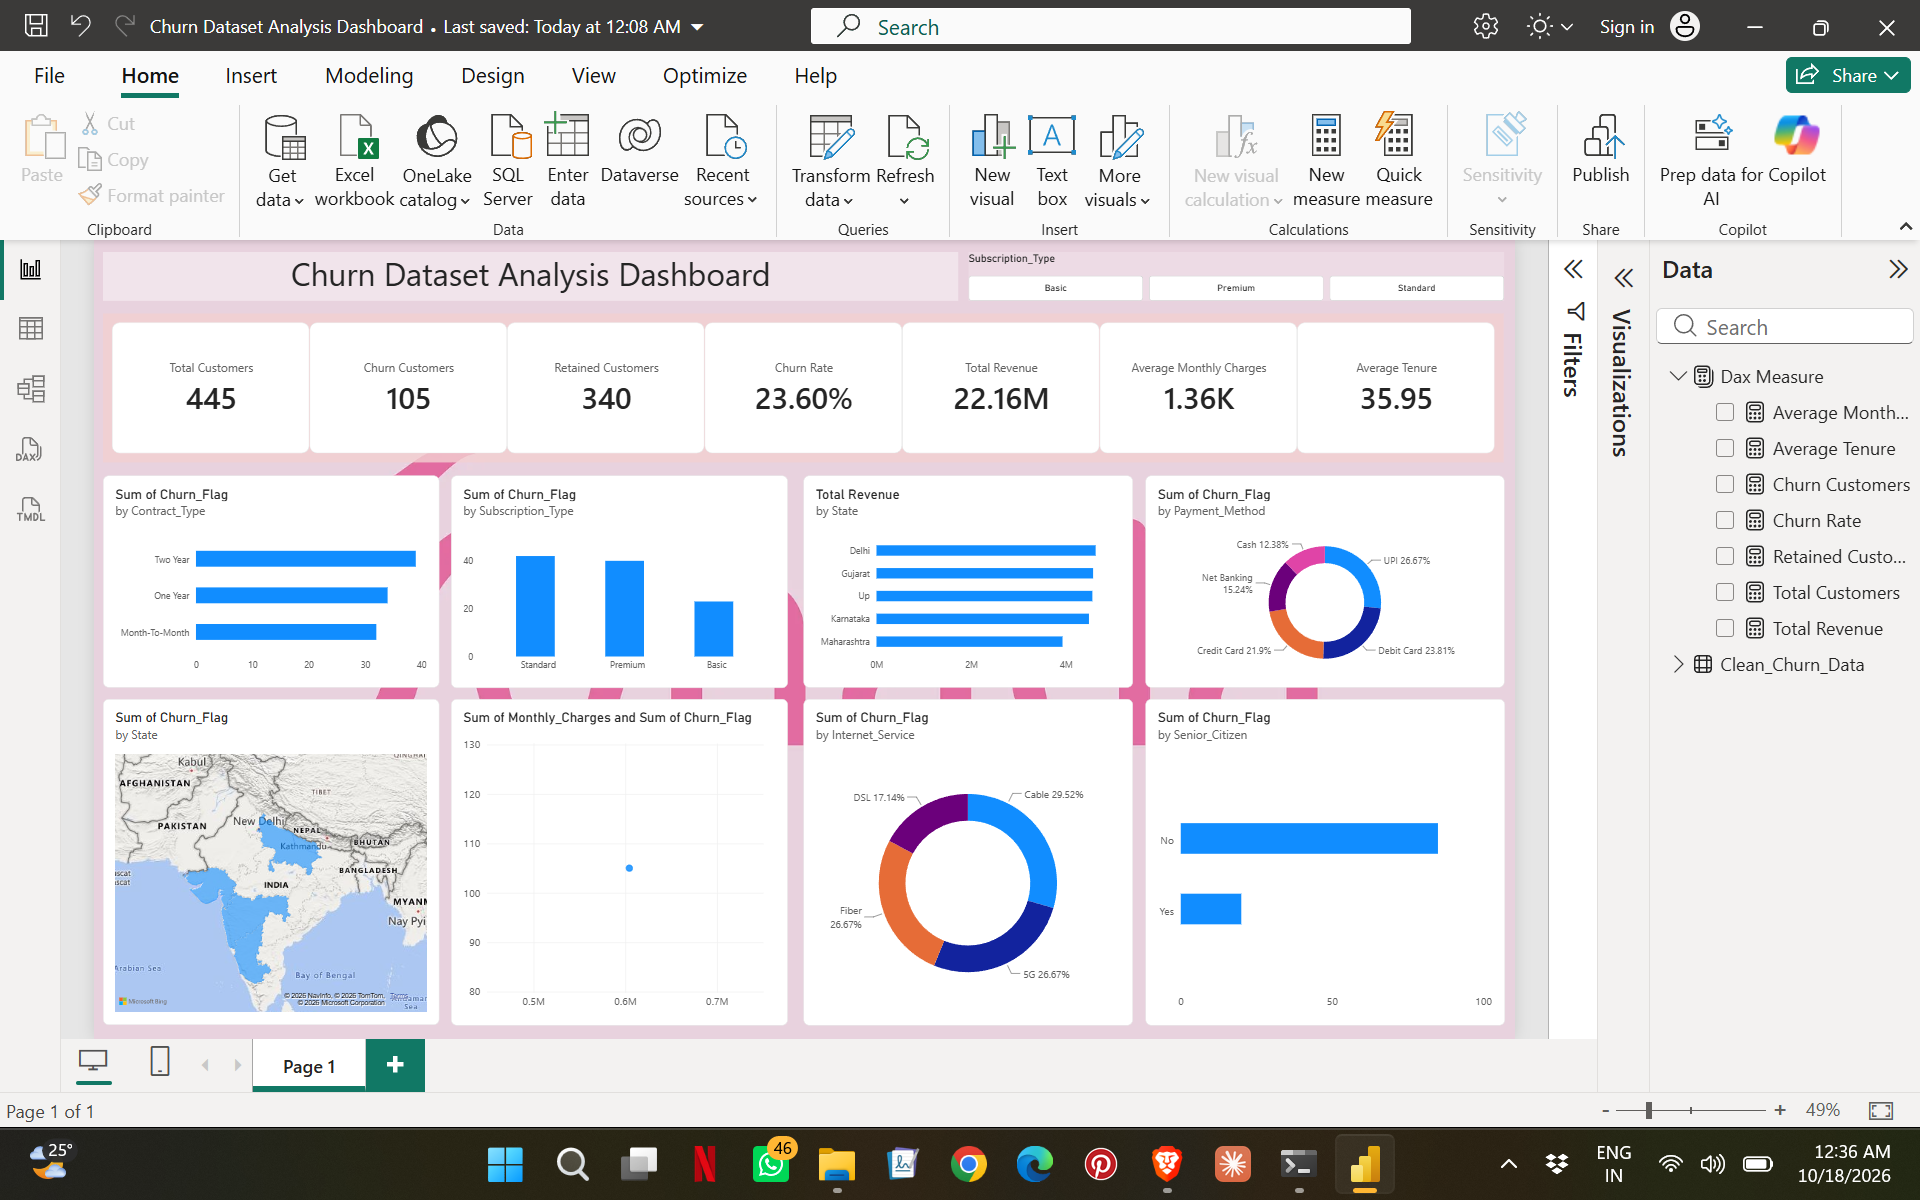

The dashboard page shown, as its layout file describes it:
{"tool":"powerbi","page":{"name":"Page 1","canvas":[1920,1080],"ordinal":0},"visuals":[{"type":"cardVisual","fields":{"Data":["Dax Measure.Total Customers","Dax Measure.Churn Customers","Dax Measure.Retained Customers","Dax Measure.Churn Rate","Dax Measure.Total Revenue","Dax Measure.Average Monthly Charges","Dax Measure.Average Tenure"]},"box":[11.8,99.5,1894.8,201.3],"z":0},{"type":"textbox","box":[12,16,1156,66],"z":1000},{"type":"clusteredBarChart","fields":{"Category":["Clean_Churn_Data.Contract_Type"],"Y":["Sum(Clean_Churn_Data.Churn_Flag)"]},"box":[11.8,317.4,454.7,286.6],"z":2000},{"type":"columnChart","fields":{"Category":["Clean_Churn_Data.Subscription_Type"],"Y":["Sum(Clean_Churn_Data.Churn_Flag)"]},"box":[483.2,317.4,455,287],"z":3000},{"type":"filledMap","fields":{"Category":["Clean_Churn_Data.State"]},"box":[11.8,620.5,454.7,440.5],"z":4000},{"type":"scatterChart","fields":{"X":["Sum(Clean_Churn_Data.Monthly_Charges)"],"Y":["Sum(Clean_Churn_Data.Churn_Flag)"]},"box":[483,621,455,441],"z":5000},{"type":"barChart","fields":{"Category":["Clean_Churn_Data.State"],"Y":["Dax Measure.Total Revenue"]},"box":[959.2,317.4,445.3,286.6],"z":6000},{"type":"donutChart","fields":{"Category":["Clean_Churn_Data.Internet_Service"],"Y":["Sum(Clean_Churn_Data.Churn_Flag)"]},"box":[959,621,445,441],"z":7000},{"type":"donutChart","fields":{"Category":["Clean_Churn_Data.Payment_Method"],"Y":["Sum(Clean_Churn_Data.Churn_Flag)"]},"box":[1421.1,317.4,485.5,286.6],"z":8000},{"type":"barChart","fields":{"Category":["Clean_Churn_Data.Senior_Citizen"],"Y":["Sum(Clean_Churn_Data.Churn_Flag)"]},"box":[1421,621,486,441],"z":9000},{"type":"advancedSlicerVisual","fields":{"Values":["Clean_Churn_Data.Subscription_Type"]},"box":[1182,16,724,66],"z":10000}]}

Visuals, with their boxes on the page's 1920x1080 design canvas (x1, y1, x2, y2). These are canvas units, not pixel positions in the 1920x1200 screenshot, which may show the page scaled, cropped or inside an application window:
cardVisual - Dax Measure.Total Customers x Dax Measure.Churn Customers: locate(12, 100, 1907, 301)
textbox: locate(12, 16, 1168, 82)
clusteredBarChart - Clean_Churn_Data.Contract_Type x Sum(Clean_Churn_Data.Churn_Flag): locate(12, 317, 466, 604)
columnChart - Clean_Churn_Data.Subscription_Type x Sum(Clean_Churn_Data.Churn_Flag): locate(483, 317, 938, 604)
filledMap - Clean_Churn_Data.State: locate(12, 620, 466, 1061)
scatterChart - Sum(Clean_Churn_Data.Monthly_Charges) x Sum(Clean_Churn_Data.Churn_Flag): locate(483, 621, 938, 1062)
barChart - Clean_Churn_Data.State x Dax Measure.Total Revenue: locate(959, 317, 1404, 604)
donutChart - Clean_Churn_Data.Internet_Service x Sum(Clean_Churn_Data.Churn_Flag): locate(959, 621, 1404, 1062)
donutChart - Clean_Churn_Data.Payment_Method x Sum(Clean_Churn_Data.Churn_Flag): locate(1421, 317, 1907, 604)
barChart - Clean_Churn_Data.Senior_Citizen x Sum(Clean_Churn_Data.Churn_Flag): locate(1421, 621, 1907, 1062)
advancedSlicerVisual - Clean_Churn_Data.Subscription_Type: locate(1182, 16, 1906, 82)
